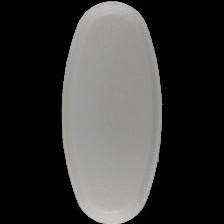0143-9948: (0, 0, 224, 224)
